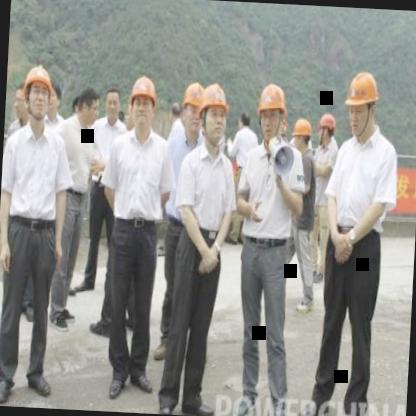head: (70, 81, 102, 128), (11, 83, 31, 131), (44, 81, 64, 118), (102, 86, 122, 122), (165, 98, 182, 126), (235, 110, 254, 134)
helmet: (342, 66, 382, 138), (20, 60, 56, 124), (254, 80, 288, 143), (199, 79, 230, 145), (126, 72, 158, 134), (180, 75, 206, 136), (292, 115, 314, 154), (314, 112, 334, 151)
